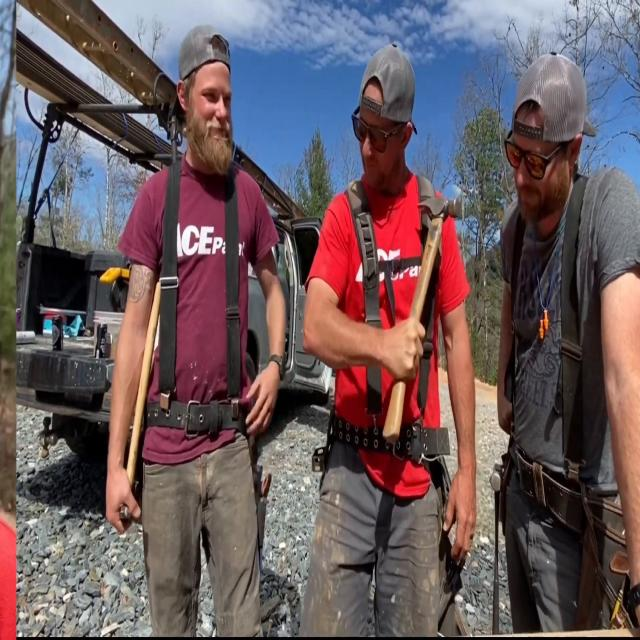hammer: (384, 199, 460, 441), (120, 282, 161, 520)
